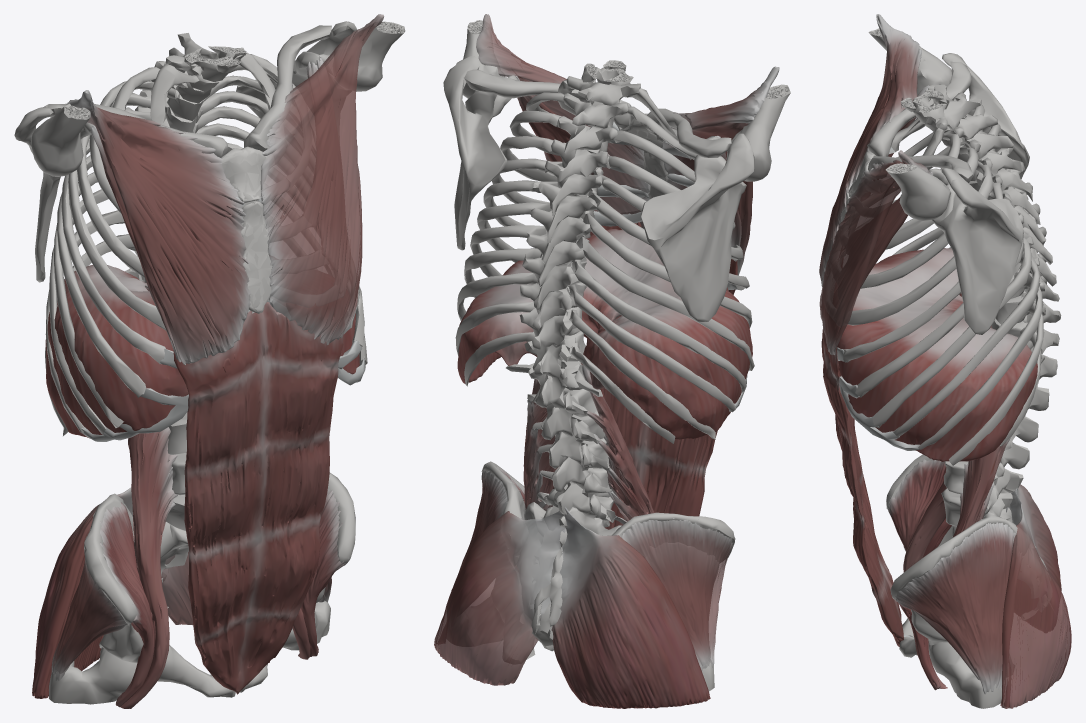
The model's file is thorax_and_abdomen_a_few_important_muscles.glb.
3 views of the same model, side by side, from view 1: azimuth 30°, elevation 25°; view 2: azimuth 150°, elevation 25°; view 3: azimuth 270°, elevation 25° (orthographic). The views are drawn at different scales.
Parts seen in each view (by area): view 1: Botjes, PM3D_Cube3D4, Pectoralis_major, Pectoralis_major1, Extract5, Botten4, Botten19_copy1, Botten3, Botten19_02, Kraakbeen_beterrrr, Sternum, Botten4_1 (+3 smaller); view 2: Botjes, Botten19_copy1, Extract5, Botten18, Botten19_02, PM3D_Cube3D4, Botten4, Botten19, Pectoralis_major1, Pectoralis_major, Botten19_03, Kraakbeen_beterrrr (+2 smaller); view 3: Botjes, Extract5, Botten19_03, Botten18, Pectoralis_major1, PM3D_Cube3D4, Pectoralis_major, Botten4, Botten3, Botten19_copy1, Pectoralis_minor, Kraakbeen_beterrrr (+2 smaller).
Part boxes in pixels (x1=…): Botjes: x1=14, y1=21, x2=405, y2=704; PM3D_Cube3D4: x1=173, y1=302, x2=344, y2=694; Pectoralis_major: x1=66, y1=90, x2=250, y2=365; Pectoralis_major1: x1=260, y1=14, x2=384, y2=345; Extract5: x1=45, y1=257, x2=359, y2=438; Botten4: x1=120, y1=427, x2=310, y2=708; Botten19_copy1: x1=32, y1=487, x2=132, y2=698; Botten3: x1=100, y1=502, x2=154, y2=707; Botten19_02: x1=51, y1=512, x2=126, y2=681; Kraakbeen_beterrrr: x1=80, y1=139, x2=365, y2=441; Sternum: x1=221, y1=147, x2=274, y2=313; Botten4_1: x1=301, y1=489, x2=345, y2=656; Botjes: x1=443, y1=20, x2=790, y2=691; Botten19_copy1: x1=551, y1=505, x2=710, y2=708; Extract5: x1=457, y1=229, x2=752, y2=439; Botten18: x1=434, y1=511, x2=565, y2=685; Botten19_02: x1=622, y1=517, x2=733, y2=670; PM3D_Cube3D4: x1=586, y1=222, x2=737, y2=529; Botten4: x1=523, y1=365, x2=654, y2=524; Botten19: x1=459, y1=542, x2=718, y2=665; Pectoralis_major1: x1=476, y1=14, x2=649, y2=228; Pectoralis_major: x1=662, y1=66, x2=779, y2=275; Botten19_03: x1=447, y1=469, x2=508, y2=621; Kraakbeen_beterrrr: x1=593, y1=122, x2=747, y2=407; Botjes: x1=835, y1=28, x2=1061, y2=708; Extract5: x1=833, y1=248, x2=1037, y2=461; Botten19_03: x1=891, y1=522, x2=1021, y2=693; Botten18: x1=1000, y1=488, x2=1071, y2=708; Pectoralis_major1: x1=819, y1=150, x2=930, y2=354; PM3D_Cube3D4: x1=821, y1=263, x2=903, y2=646; Pectoralis_major: x1=819, y1=14, x2=921, y2=286; Botten4: x1=903, y1=436, x2=1011, y2=688; Botten3: x1=888, y1=459, x2=951, y2=557; Botten19_copy1: x1=1006, y1=484, x2=1061, y2=631; Pectoralis_minor: x1=835, y1=85, x2=933, y2=324; Kraakbeen_beterrrr: x1=824, y1=147, x2=919, y2=637.
Size of the model in its own units: 391 by 698 by 281.
